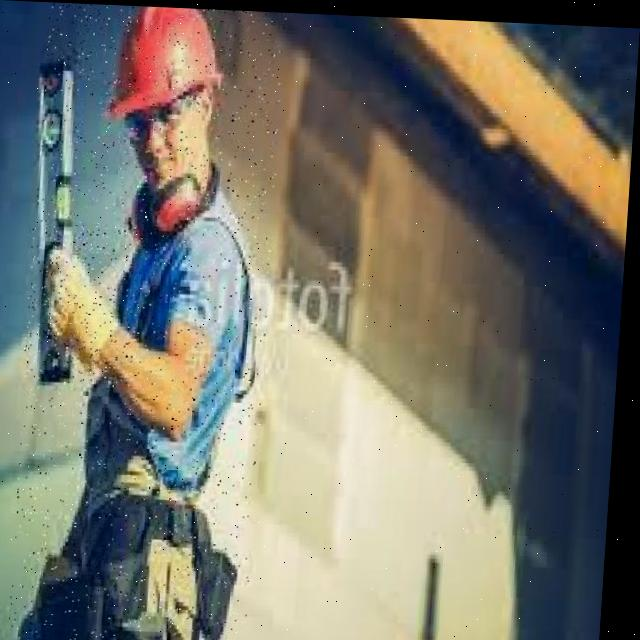Gloves: (44, 243, 127, 370)
Helmet: (110, 4, 234, 122)
